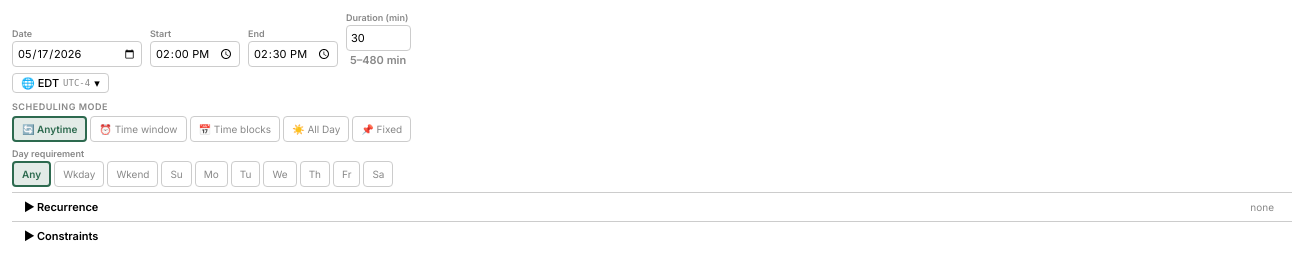
Test: TC-TZ005: typing in the search input filters timezone list › typing "Tokyo" shows Asia/Tokyo
Click the button "🌐 EDT UTC-4 ▾" at (60, 83), box [12,73,109,93]
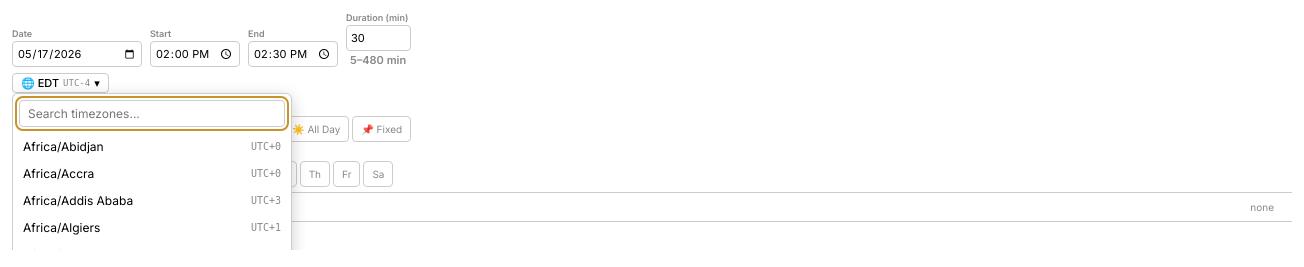
Type "Tokyo" into the field with placeholder "Search timezones..." at (152, 114), box [19,100,285,127]
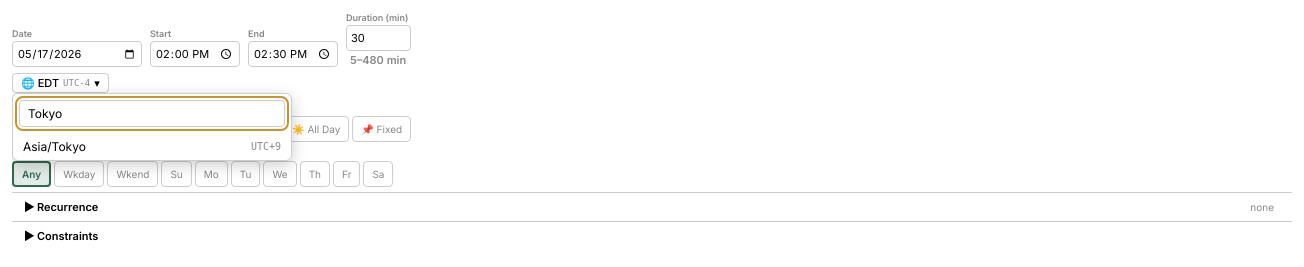
expect the text "Asia/Tokyo" is shown: met, box [23,139,86,154]
